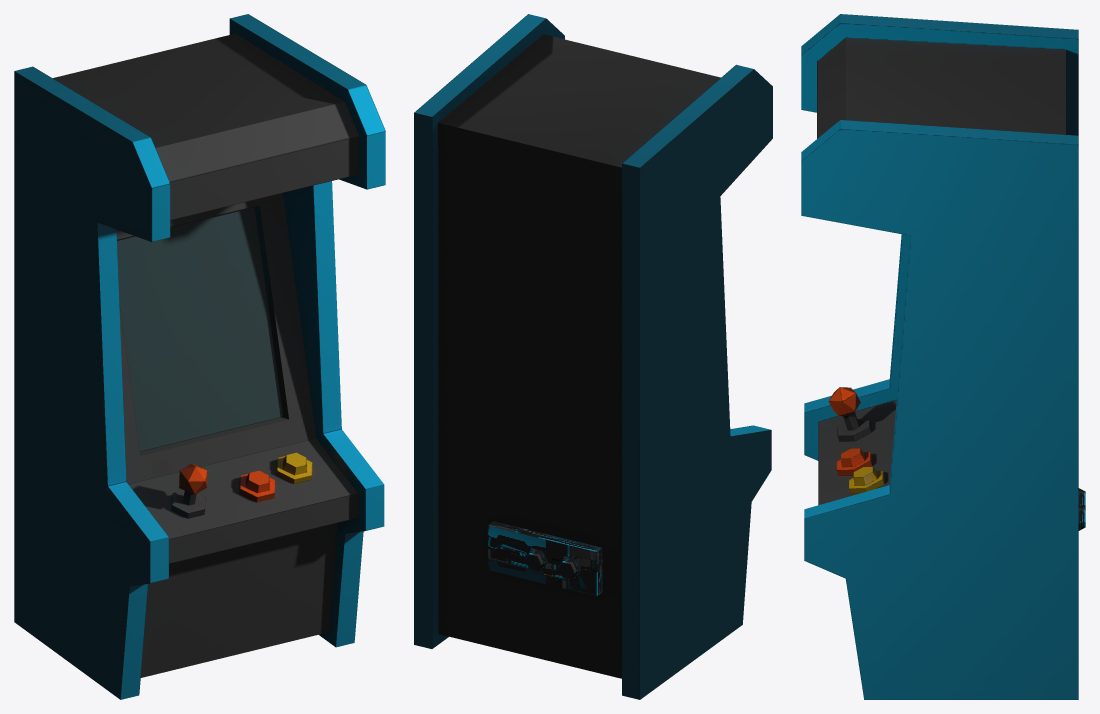
Rendered from casino2_h2.glb.
3 renders of one model, left to right at view 1: azimuth 30°, elevation 25°; view 2: azimuth 150°, elevation 25°; view 3: azimuth 270°, elevation 25°, orthographic. The views are drawn at different scales.
Parts seen in each view (by area): view 1: gamemachine_01; view 2: gamemachine_01; view 3: gamemachine_01.
Part boxes in pixels (bbox=[...]): gamemachine_01: bbox=[14, 14, 385, 699]; gamemachine_01: bbox=[414, 14, 772, 699]; gamemachine_01: bbox=[801, 14, 1085, 699].
Bounding box in the file's own units: 0.8 × 1.85 × 0.8352.
5 materials, 5 textured.
